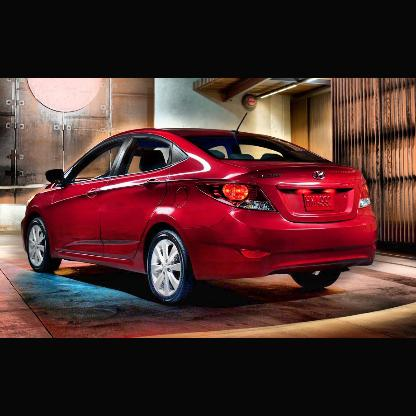Hyundai Accent Sedan 2012: (22, 130, 381, 307)
